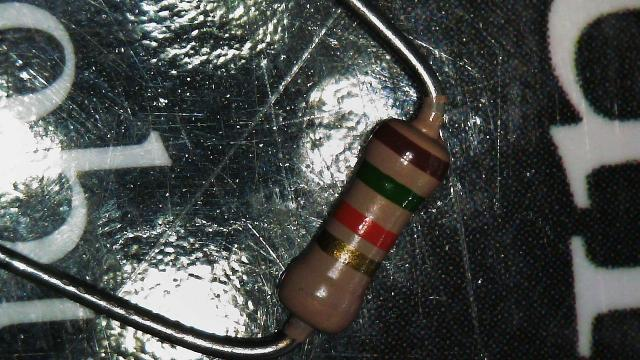brown: (374, 123, 447, 179)
gold: (316, 229, 380, 276)
green: (356, 161, 424, 212)
orange: (332, 201, 396, 250)
resistor: (241, 84, 486, 360)
